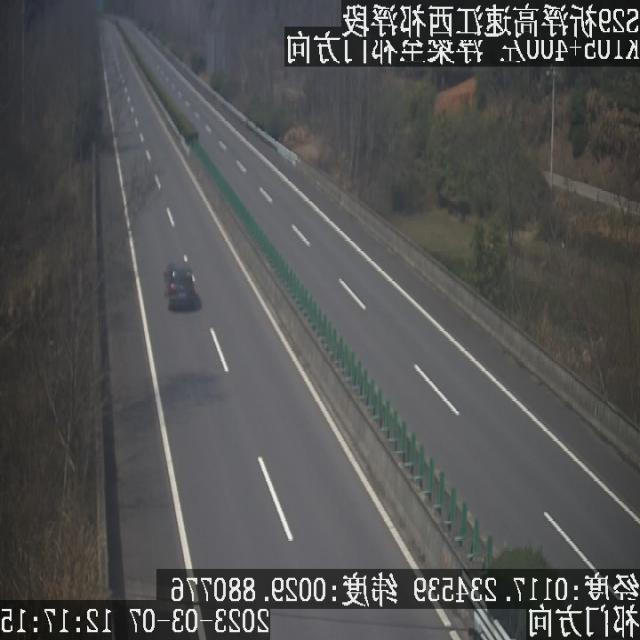cover: (124, 145, 172, 201)
point: (89, 7, 153, 66)
